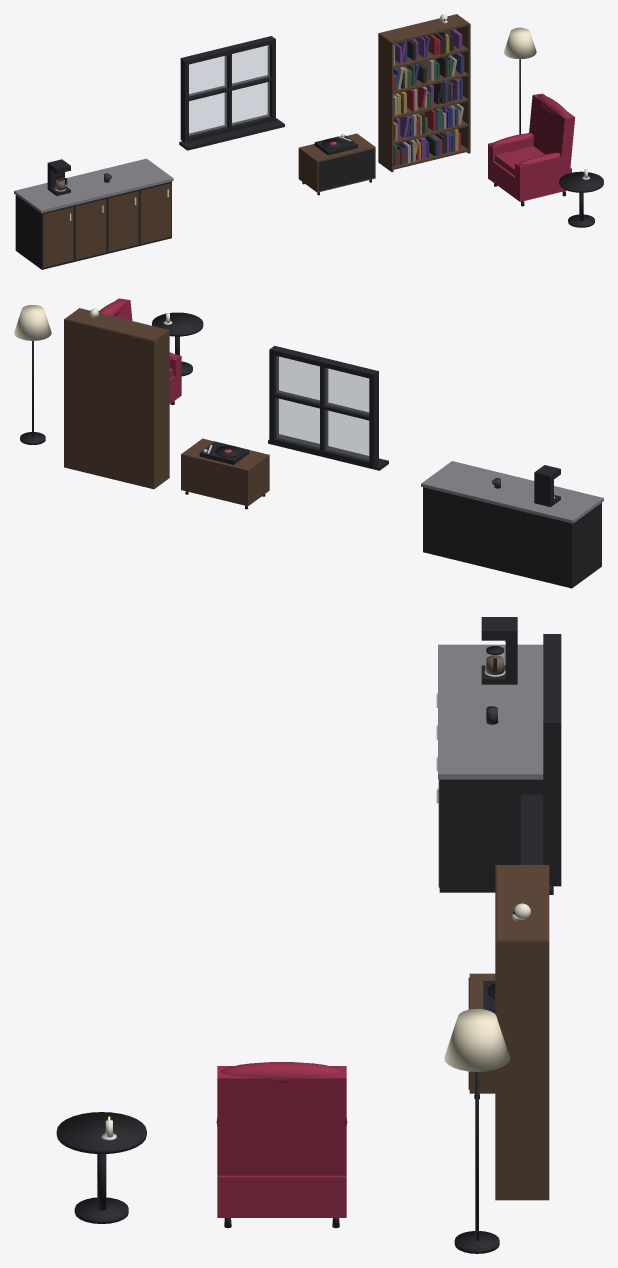
File: props.glb
3 renders of one model, top to bottom at view 1: azimuth 30°, elevation 25°; view 2: azimuth 150°, elevation 25°; view 3: azimuth 270°, elevation 25°, orthographic. The views are drawn at different scales.
Parts seen in each view (by area): view 1: bookshelf, counter, armchair, glass, window, record_player, side_table, shade, coffee_maker; view 2: bookshelf, counter, glass, window, record_player, side_table, armchair, shade, coffee_maker, lamp; view 3: counter, armchair, bookshelf, window, side_table, shade, coffee_maker, record_player, lamp.
Boxes of the visible parts, x1=… form: bookshelf: x1=378, y1=14, x2=470, y2=172; counter: x1=14, y1=158, x2=173, y2=269; armchair: x1=488, y1=93, x2=575, y2=206; glass: x1=189, y1=45, x2=269, y2=135; window: x1=179, y1=36, x2=284, y2=150; record_player: x1=298, y1=133, x2=375, y2=195; side_table: x1=559, y1=169, x2=603, y2=227; shade: x1=503, y1=27, x2=536, y2=59; coffee_maker: x1=47, y1=159, x2=70, y2=195; bookshelf: x1=64, y1=308, x2=169, y2=489; counter: x1=421, y1=461, x2=603, y2=588; glass: x1=276, y1=356, x2=368, y2=459; window: x1=268, y1=345, x2=388, y2=470; record_player: x1=181, y1=438, x2=269, y2=509; side_table: x1=152, y1=312, x2=203, y2=376; armchair: x1=99, y1=298, x2=181, y2=404; shade: x1=14, y1=305, x2=51, y2=340; coffee_maker: x1=534, y1=465, x2=560, y2=506; lamp: x1=20, y1=341, x2=45, y2=444; counter: x1=436, y1=644, x2=543, y2=892; armchair: x1=216, y1=1062, x2=347, y2=1228; bookshelf: x1=495, y1=865, x2=549, y2=1200; window: x1=520, y1=634, x2=561, y2=894; side_table: x1=56, y1=1112, x2=146, y2=1223; shade: x1=444, y1=1009, x2=509, y2=1071; coffee_maker: x1=481, y1=617, x2=517, y2=684; record_player: x1=468, y1=973, x2=495, y2=1099; lamp: x1=454, y1=1072, x2=499, y2=1253.
Bounding box in the file's own units: 7.74 × 2.2 × 3.36.
